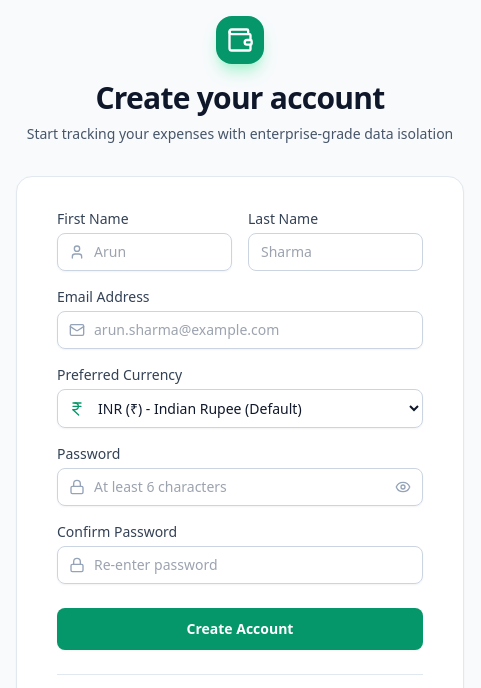
it: Authentication Components › RegisterForm › validates password mismatch on registration
Type "Priya" into the field labelled "First Name" at (144, 252), box top-left (57, 233), bottom-right (232, 271)
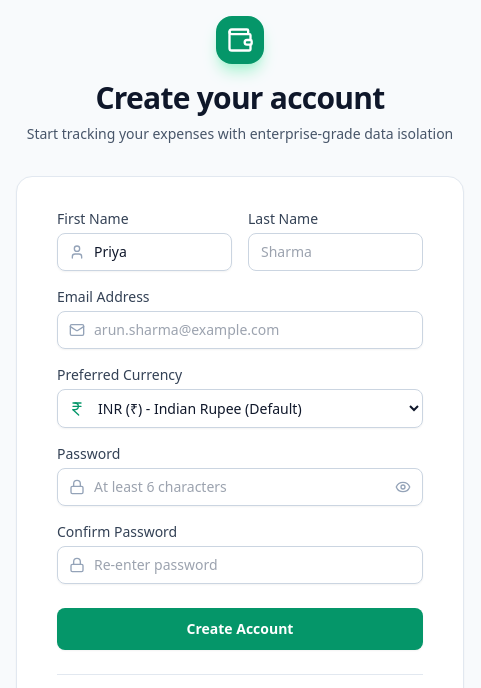
Type "Patel" into the field labelled "Last Name" at (336, 252), box top-left (248, 233), bottom-right (423, 271)
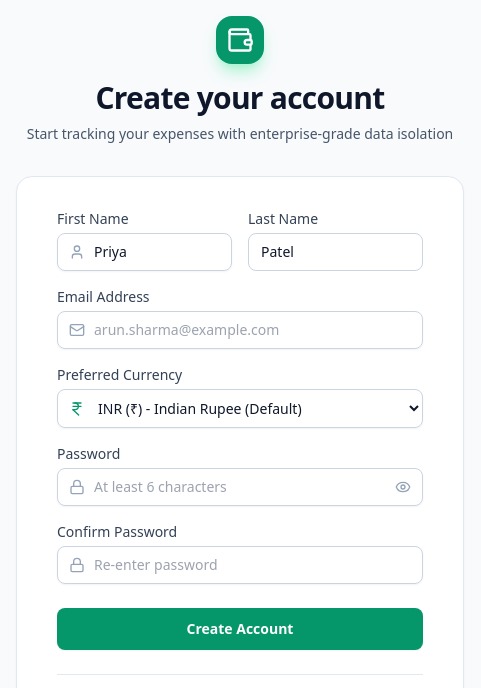
Type "priya@example.com" into the field labelled "Email Address" at (240, 330), box top-left (57, 311), bottom-right (423, 349)
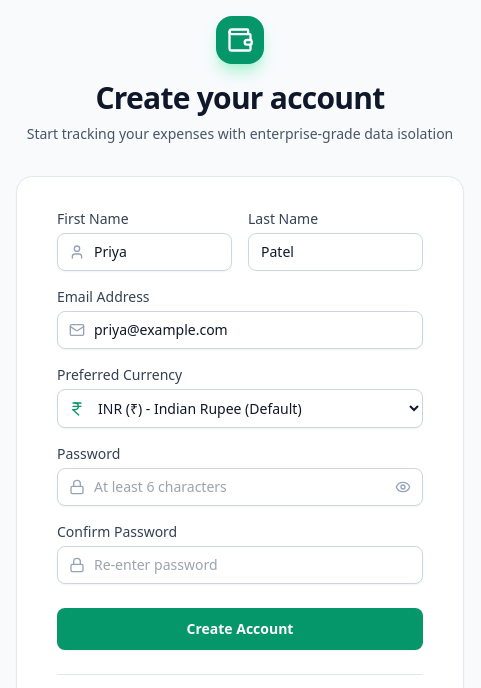
Type "password123" into the password field with placeholder "At least 6 characters" at (240, 487), box top-left (57, 468), bottom-right (423, 506)
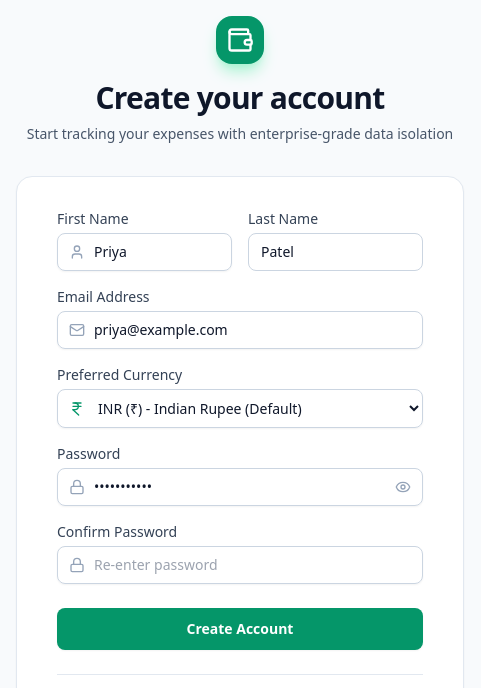
Type "passwordDifferent" into the password field with placeholder "Re-enter password" at (240, 565), box top-left (57, 546), bottom-right (423, 584)
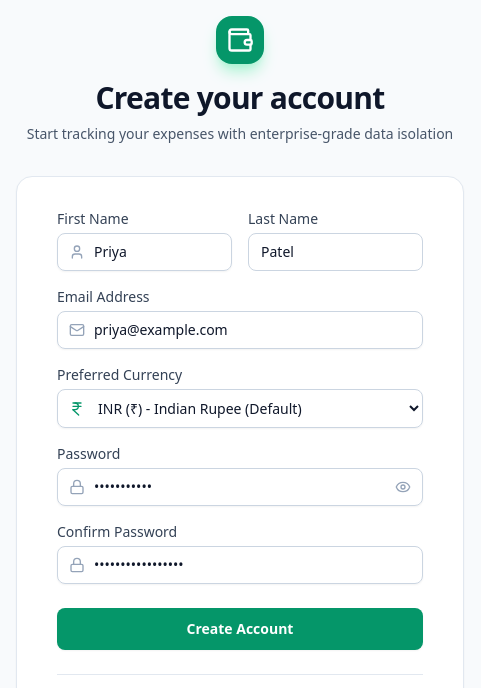
Click the button "Create Account" at (240, 629), box top-left (57, 608), bottom-right (423, 650)
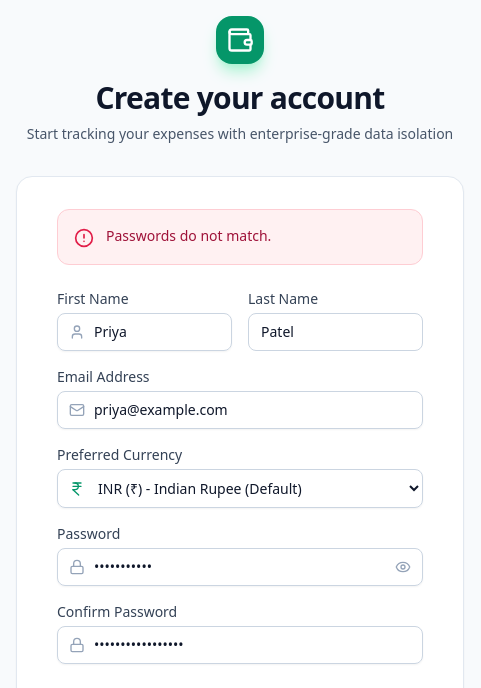
Now the text "Passwords do not match." is shown, box top-left (106, 226), bottom-right (271, 246)
